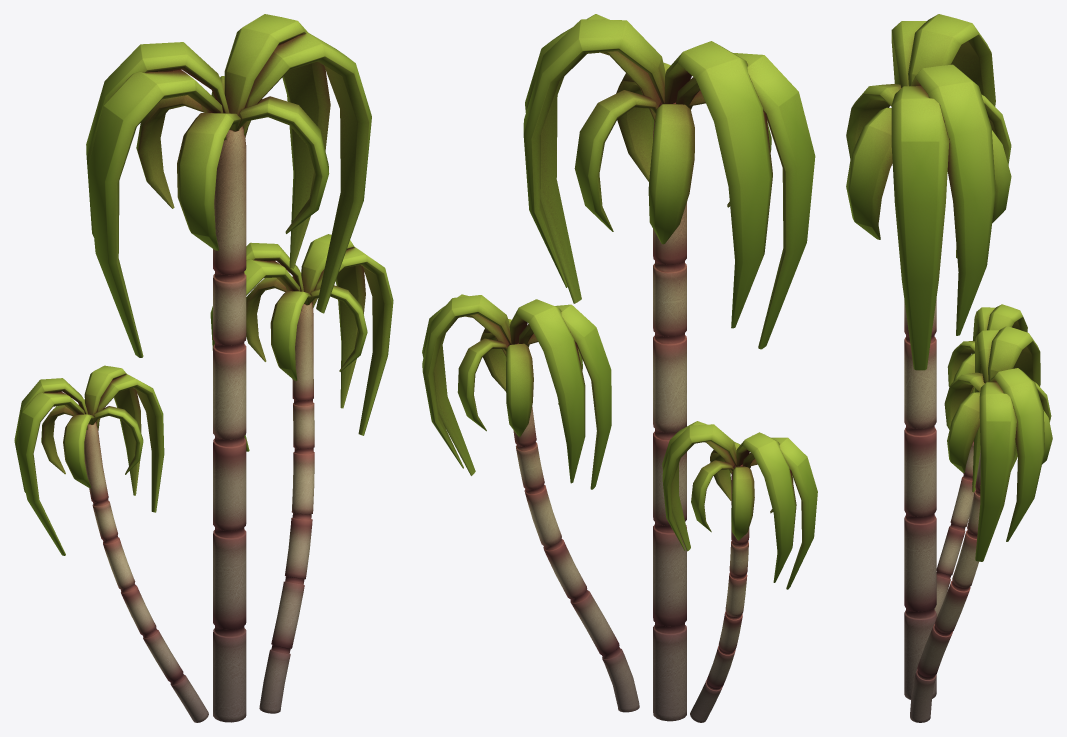
The model's file is SugarCane_Stage_3.fbx.
3 renders of one model, left to right at view 1: azimuth 30°, elevation 25°; view 2: azimuth 150°, elevation 25°; view 3: azimuth 270°, elevation 25°, orthographic. The views are drawn at different scales.
Visible parts, largest first — view 1: Cylinder.004; view 2: Cylinder.004; view 3: Cylinder.004.
Boxes of the visible parts, left/top/right/bottom form: Cylinder.004: left=14, top=14, right=393, bottom=722; Cylinder.004: left=422, top=14, right=817, bottom=722; Cylinder.004: left=846, top=14, right=1052, bottom=722.
Size of the model in its own units: 127 by 219 by 63.11.
Materials: 1 (1 with a texture image).
